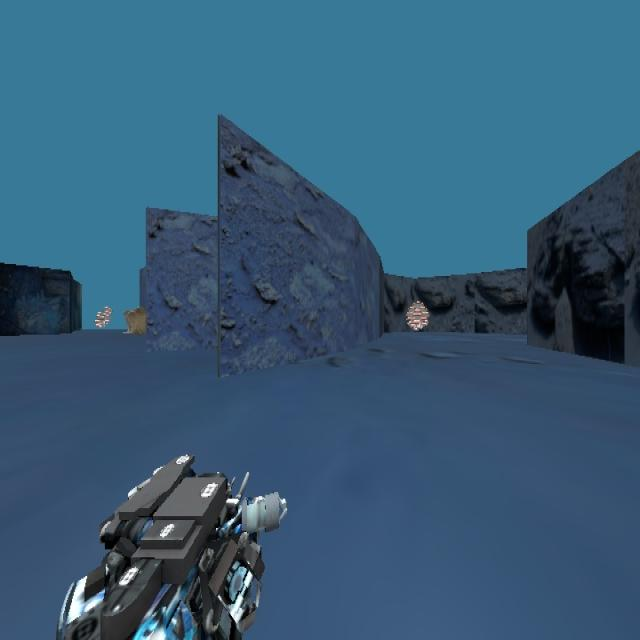Mushroom: (404, 298, 430, 330), (93, 304, 112, 328)
